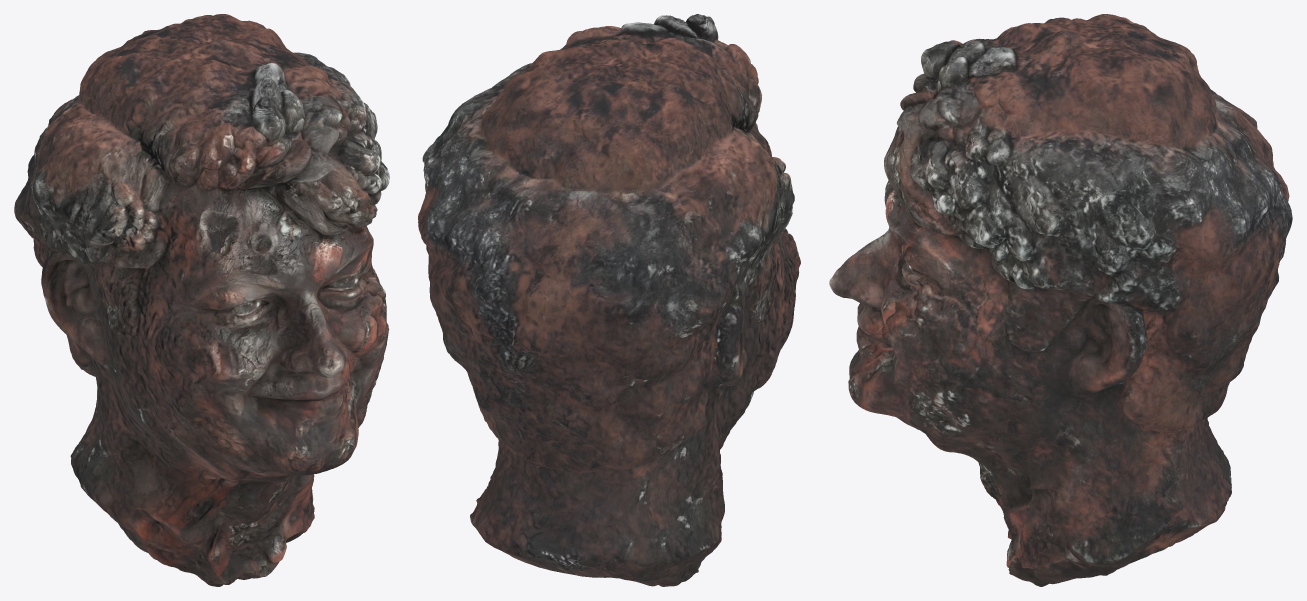
The model's file is Rider-Stokes.glb.
3 views of the same model, side by side, from view 1: azimuth 30°, elevation 25°; view 2: azimuth 150°, elevation 25°; view 3: azimuth 270°, elevation 25° (orthographic). The views are drawn at different scales.
Bounding box in the file's own units: 1.17 × 1.9 × 1.46.
Materials: 1 (1 with a texture image).
